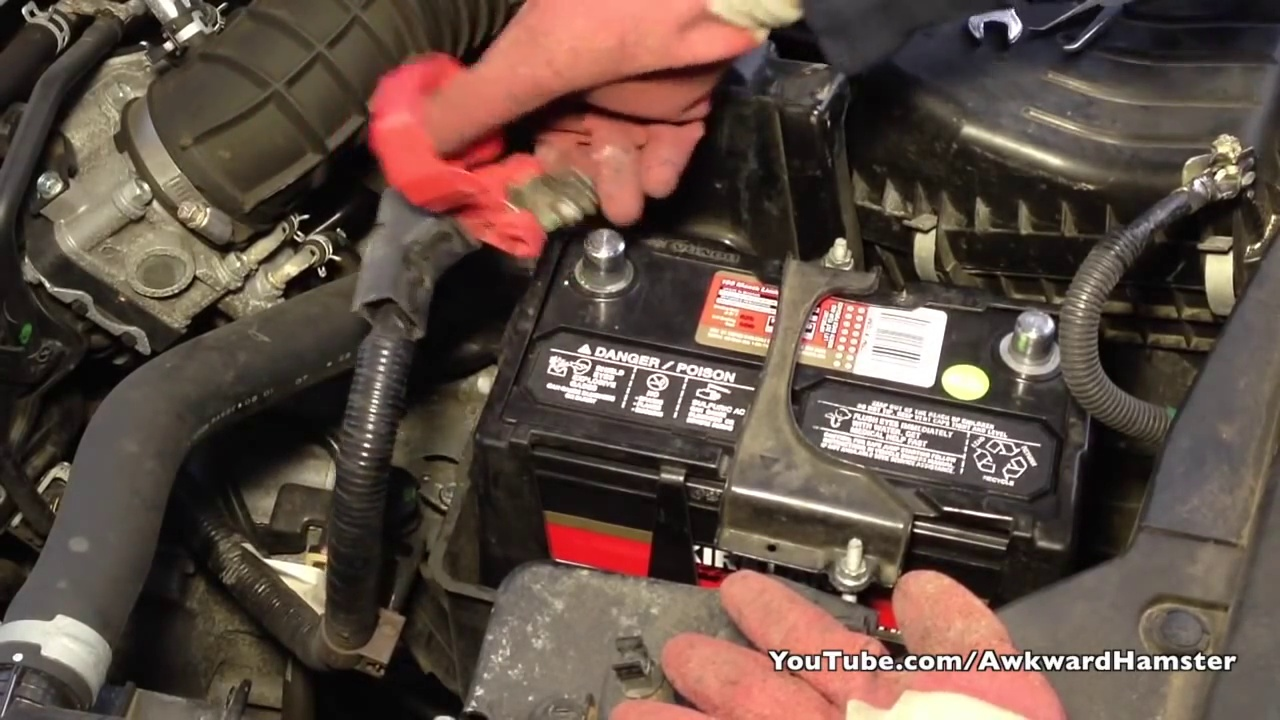battery: (484, 217, 1074, 537)
neg_disconnected: (970, 285, 1090, 397)
pos_disconnected: (377, 123, 647, 304)
pos_touched: (451, 37, 641, 310)
